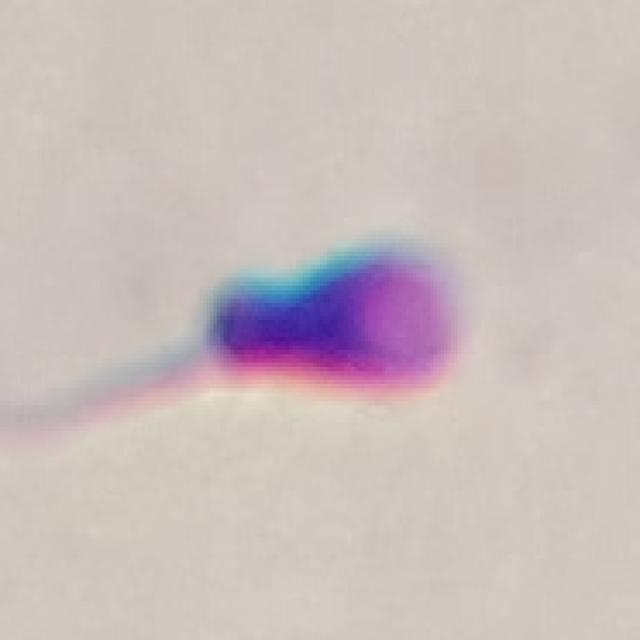abnormal sperm: (62, 221, 471, 432)
